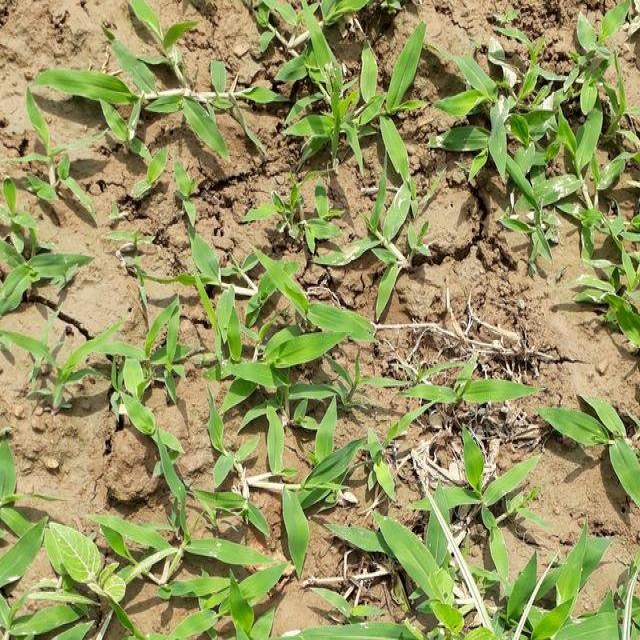weed: (30, 22, 429, 640), (372, 412, 640, 640), (446, 32, 640, 326)
